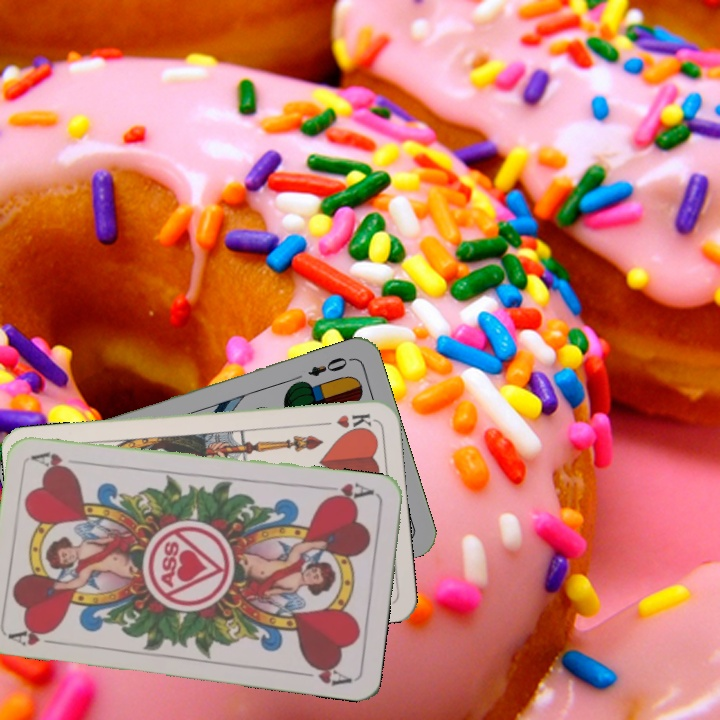EO: (304, 353, 355, 379)
HA: (7, 622, 66, 649), (319, 479, 377, 505)
HK: (315, 409, 375, 431)
